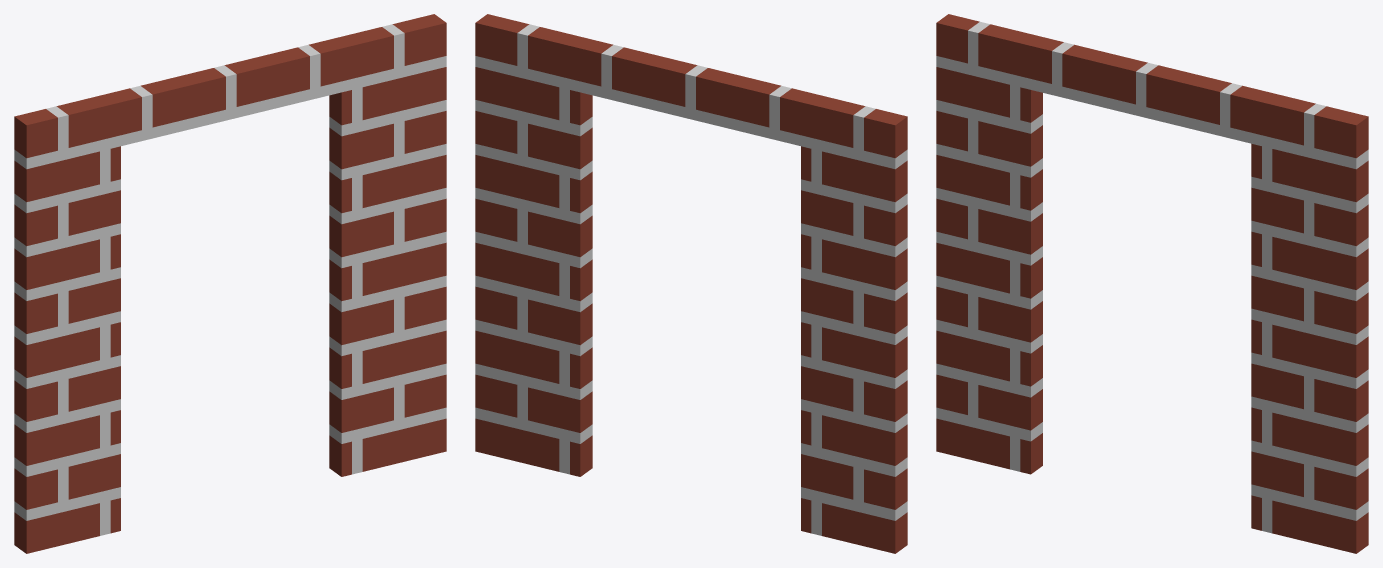
The model's file is ConstructionMaterials-47.obj.
3 views of the same model, side by side, from view 1: azimuth 30°, elevation 25°; view 2: azimuth 150°, elevation 25°; view 3: azimuth 330°, elevation 25° (orthographic).
Size of the model in its own units: 4 by 3.9 by 0.2.
Materials: 1 (1 with a texture image).
